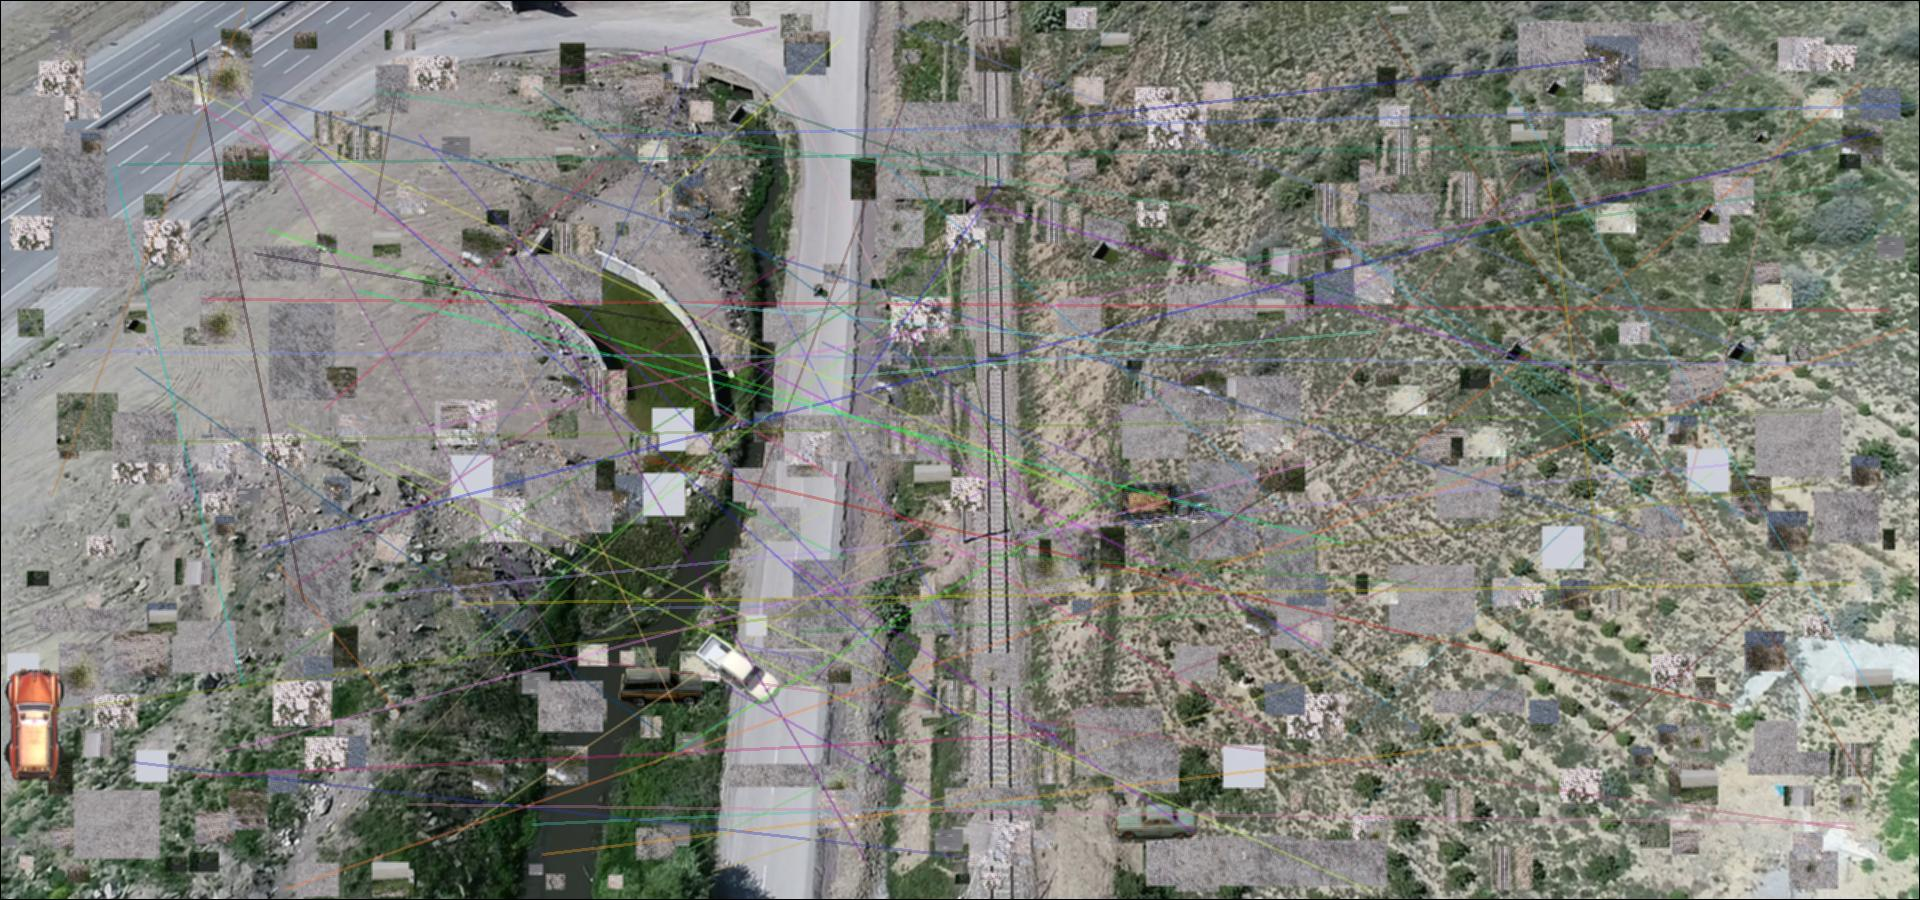arac: (4, 669, 67, 782), (691, 632, 782, 704), (1118, 478, 1213, 527), (620, 667, 704, 707), (1111, 803, 1198, 839)
